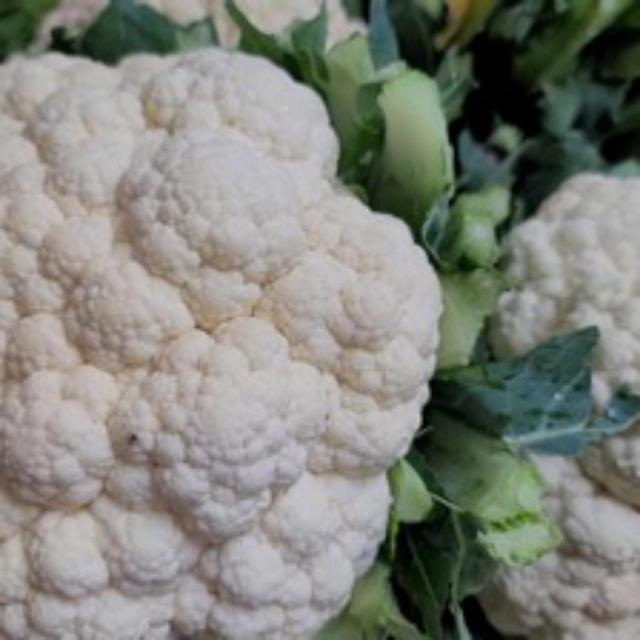cauliflower: (0, 40, 454, 637)
